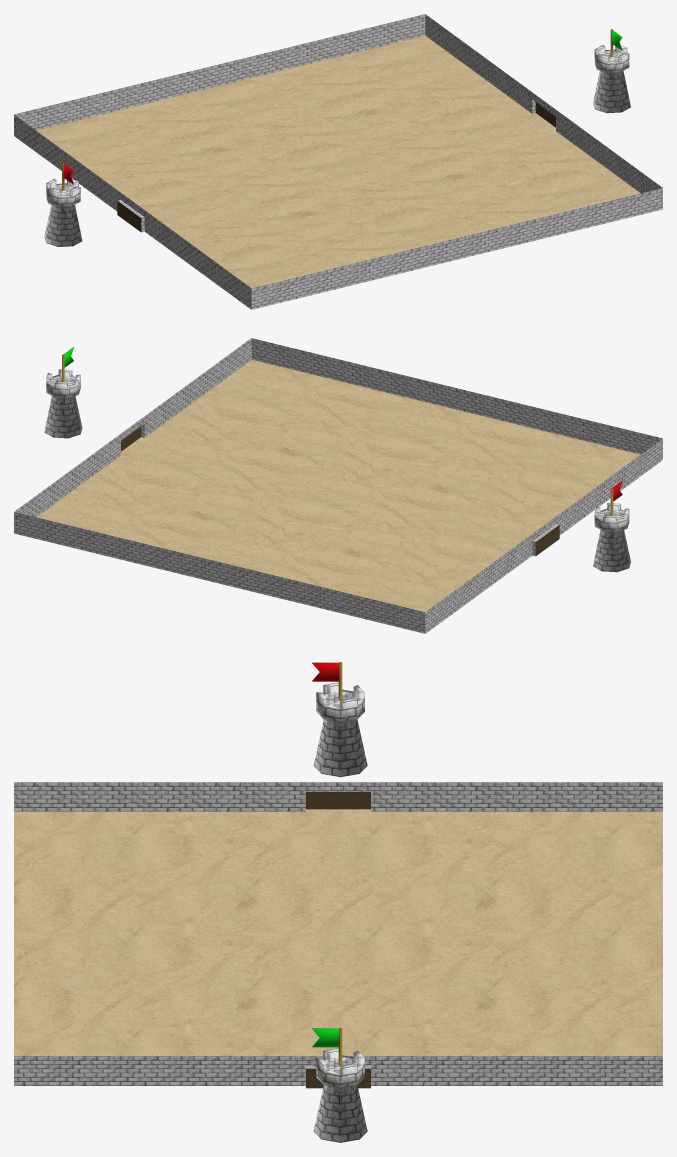
Rendered from arena.fbx.
The picture shows the model from 3 angles, top to bottom: view 1: azimuth 30°, elevation 25°; view 2: azimuth 150°, elevation 25°; view 3: azimuth 270°, elevation 25°; orthographic projection. The views are drawn at different scales.
Parts seen in each view (by area): view 1: Bashnya; view 2: Bashnya; view 3: Bashnya.
Part boxes in pixels (x1,y1,x2,y2): Bashnya: [14, 14, 662, 309]; Bashnya: [14, 338, 662, 633]; Bashnya: [14, 662, 662, 1142].
Bounding box in the file's own units: 170 × 21.02 × 120.
6 materials, 3 textured.
